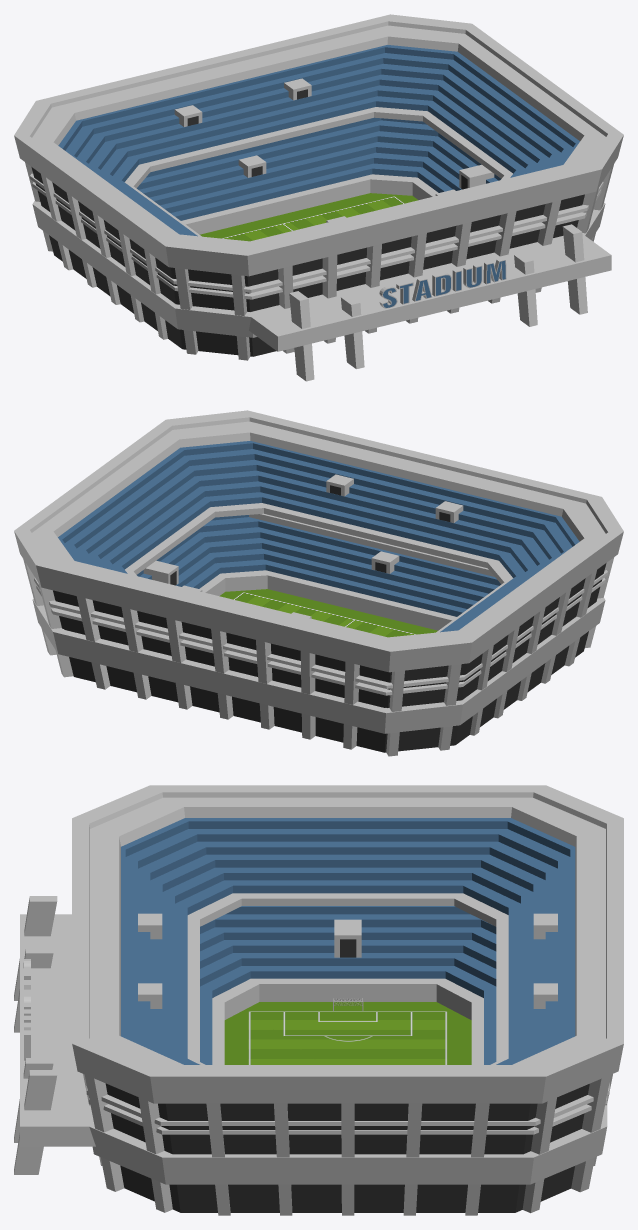
File: spw-urban-bldg-stadium.glb
3 views of the same model, one above another, from view 1: azimuth 30°, elevation 25°; view 2: azimuth 150°, elevation 25°; view 3: azimuth 270°, elevation 25° (orthographic). The views are drawn at different scales.
Visible parts, largest first — view 1: SPW_Urban_Bldg_Stadium; view 2: SPW_Urban_Bldg_Stadium; view 3: SPW_Urban_Bldg_Stadium.
Part boxes in pixels (x1,y1,x2,y2): SPW_Urban_Bldg_Stadium: [14, 14, 623, 381]; SPW_Urban_Bldg_Stadium: [14, 410, 623, 756]; SPW_Urban_Bldg_Stadium: [14, 785, 623, 1215].
Size of the model in its own units: 50.27 by 12.4 by 44.45.
Materials: 1 (1 with a texture image).
